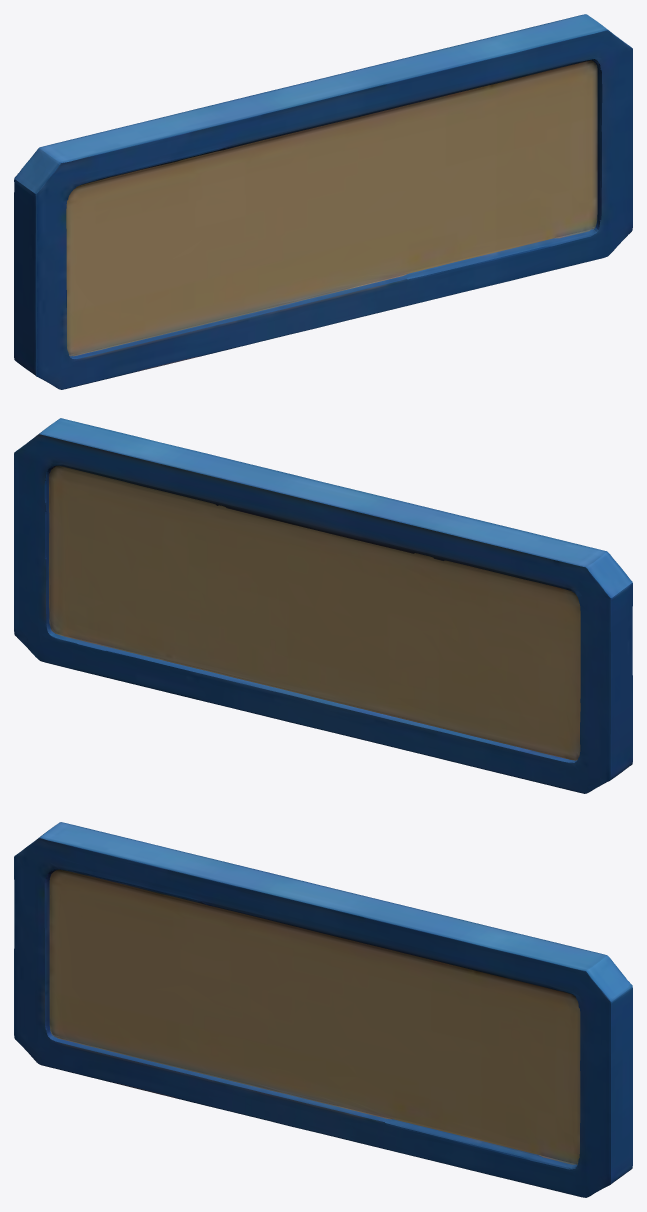
The model's file is prop_sign.glb.
3 views of the same model, one above another, from view 1: azimuth 30°, elevation 25°; view 2: azimuth 150°, elevation 25°; view 3: azimuth 330°, elevation 25° (orthographic).
Parts seen in each view (by area): view 1: groundshift; view 2: groundshift; view 3: groundshift.
Boxes of the visible parts, x1,y1,x2,y2 form: groundshift: (14,14,632,389); groundshift: (14,418,632,793); groundshift: (14,822,632,1197).
Bounding box in the file's own units: 7.15 × 2.6 × 0.4679.
1 material, 1 textured.
